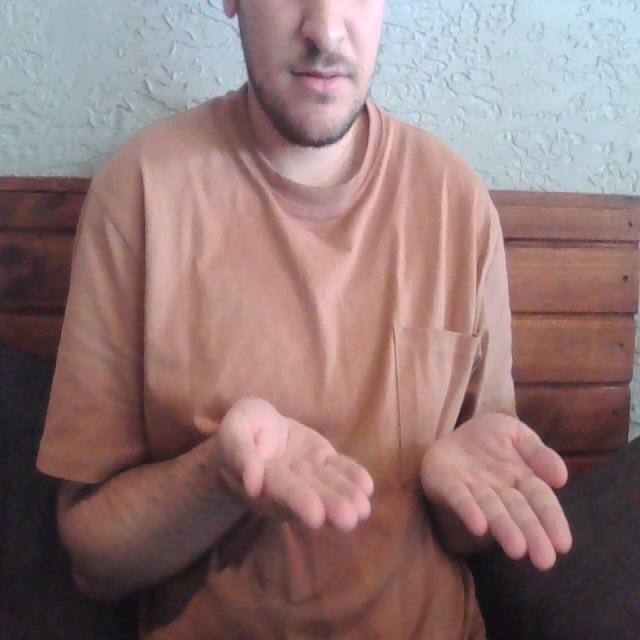Evet: (213, 392, 584, 576)
